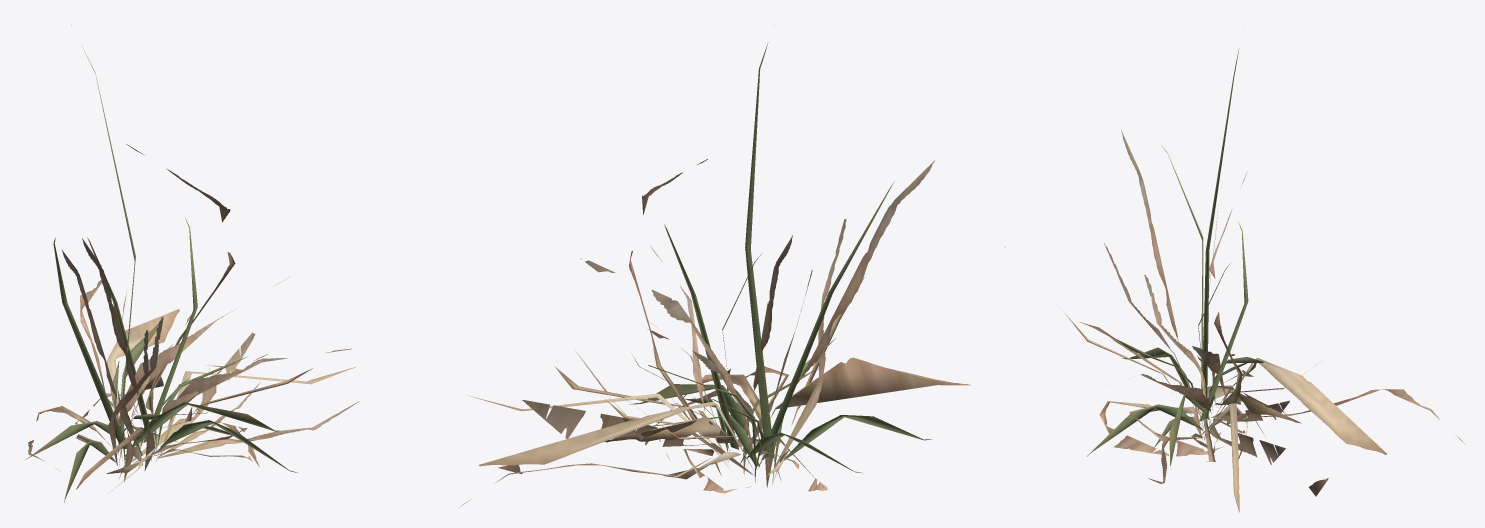
The picture shows the model from 3 angles, left to right: view 1: azimuth 30°, elevation 25°; view 2: azimuth 150°, elevation 25°; view 3: azimuth 270°, elevation 25°; orthographic projection. The views are drawn at different scales.
Parts seen in each view (by area): view 1: grass_medium_02__b_lod1; view 2: grass_medium_02__b_lod1; view 3: grass_medium_02__b_lod1.
Part boxes in pixels (x1=…): grass_medium_02__b_lod1: x1=25, y1=25, x2=359, y2=502; grass_medium_02__b_lod1: x1=459, y1=42, x2=970, y2=507; grass_medium_02__b_lod1: x1=1005, y1=48, x2=1465, y2=512.
Size of the model in its own units: 0.1727 by 0.1853 by 0.1929.
Materials: 1 (1 with a texture image).
